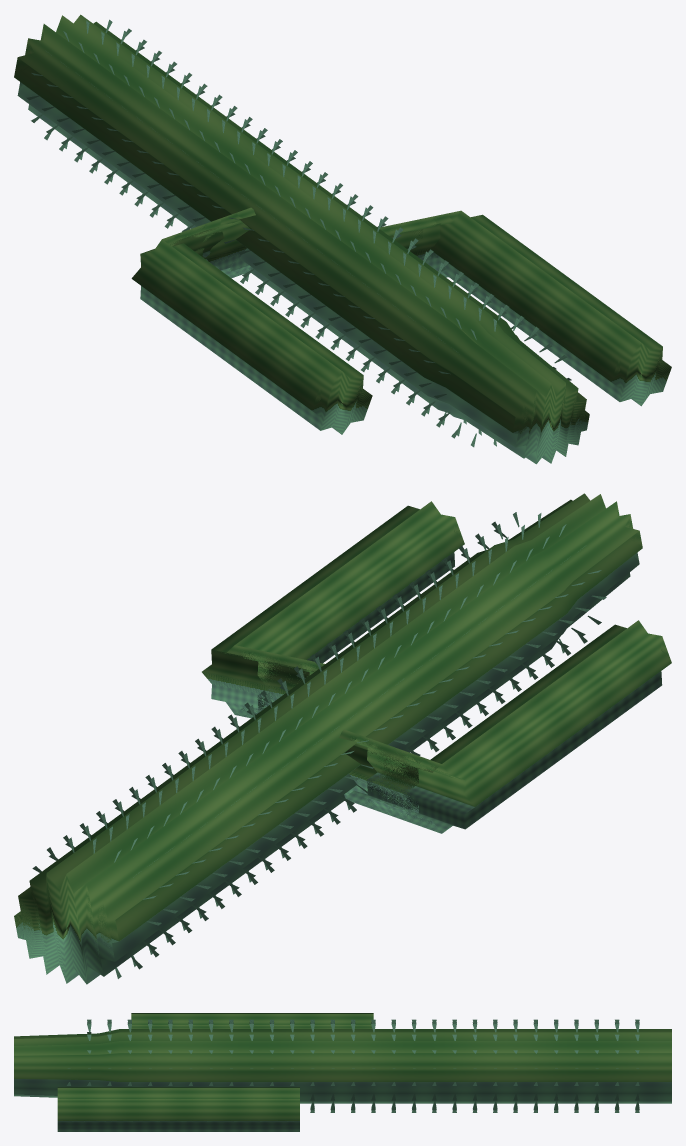
File: veg_succulent_saguaro_01.glb
The picture shows the model from 3 angles, top to bottom: view 1: azimuth 30°, elevation 25°; view 2: azimuth 150°, elevation 25°; view 3: azimuth 270°, elevation 25°; orthographic projection. The views are drawn at different scales.
Parts seen in each view (by area): view 1: veg_succulent_saguaro_01; view 2: veg_succulent_saguaro_01; view 3: veg_succulent_saguaro_01.
Boxes of the visible parts, bbox=[...] form: veg_succulent_saguaro_01: bbox=[14, 14, 671, 464]; veg_succulent_saguaro_01: bbox=[14, 493, 671, 984]; veg_succulent_saguaro_01: bbox=[14, 1013, 671, 1131].
Size of the model in its own units: 2.16 by 0.8516 by 6.
1 material, 1 textured.
